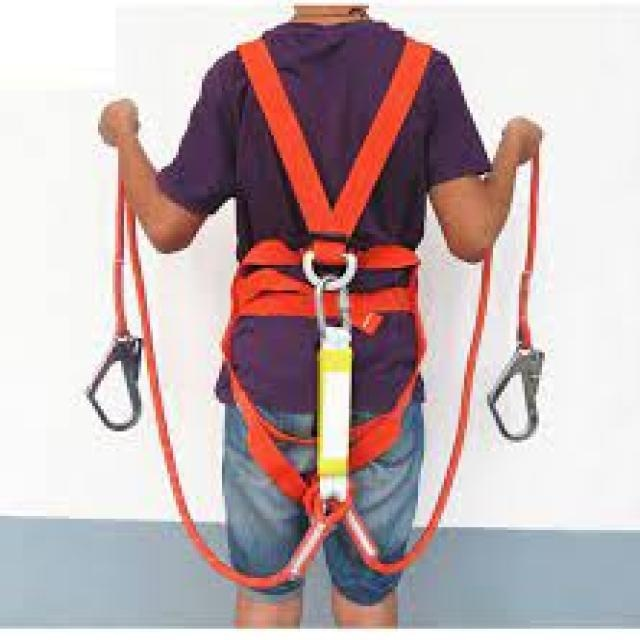Arnes_seguridad: (219, 16, 448, 494), (333, 124, 549, 573)
